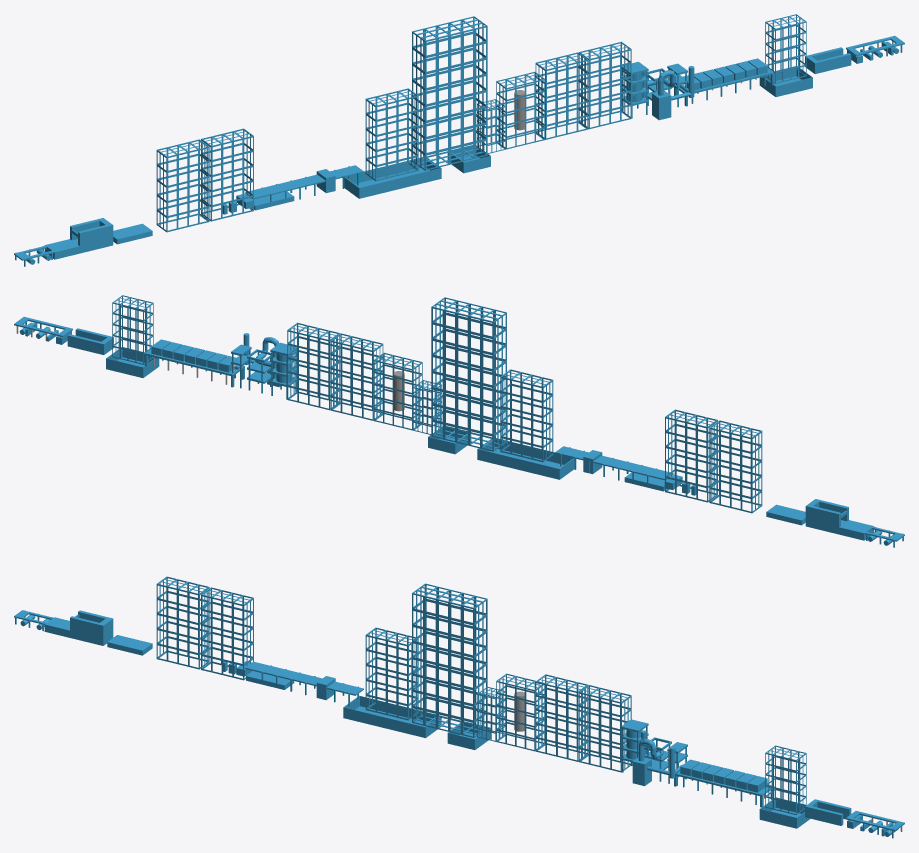
Rendered from fabrika.glb.
The picture shows the model from 3 angles, top to bottom: view 1: azimuth 30°, elevation 25°; view 2: azimuth 150°, elevation 25°; view 3: azimuth 330°, elevation 25°; orthographic projection.
Bounding box in the file's own units: 0.1025 × 0.0156 × 0.00426.
